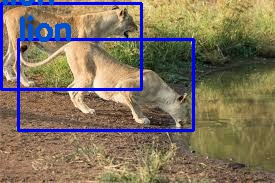lion: (17, 39, 192, 130), (1, 3, 141, 88)
